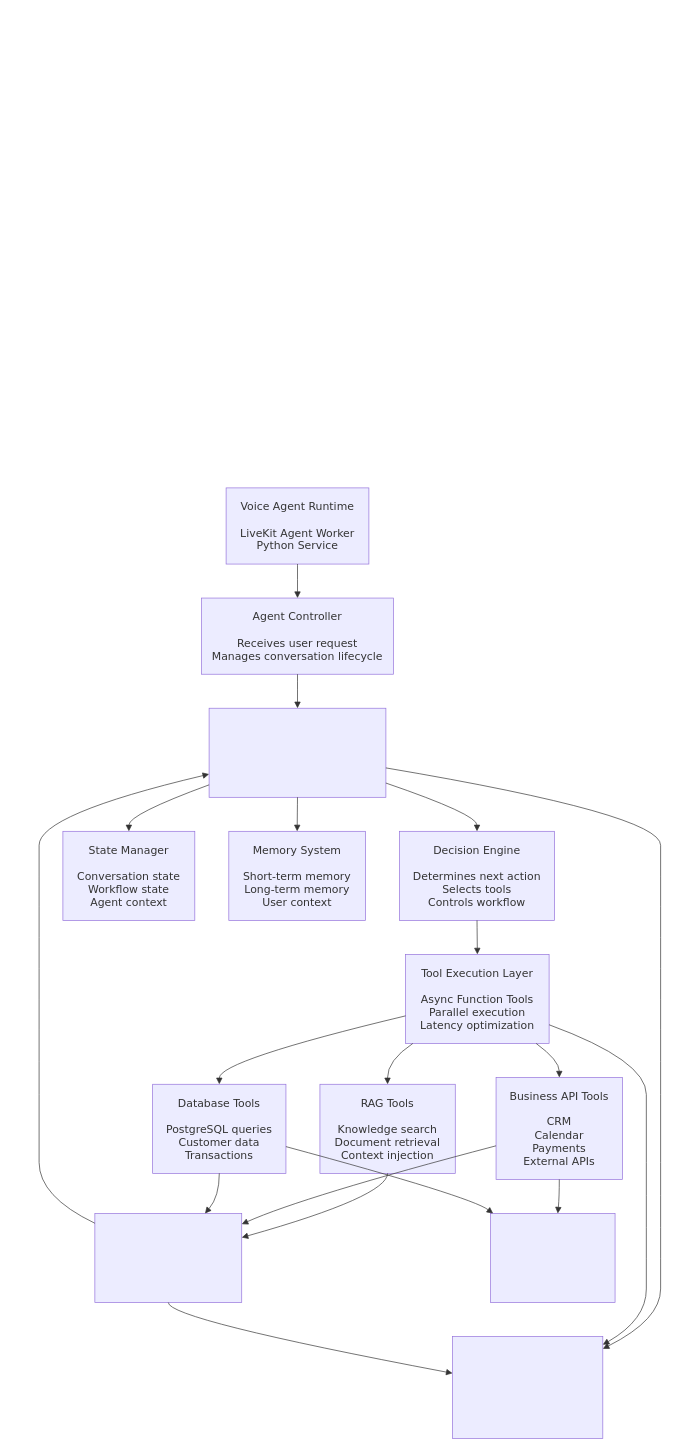
Some shapes in this 673 by 1450 pixel diagram are drawn without their labels. Here are the shapes that lost their labels. From the top down, the centre of each, then its label:
At (x=297, y=752): "LangGraph Workflow Engine State machine Agent reasoning flow Task orchestration".
At (x=168, y=1258): "LLM Reasoning Engine GPT Models Planning Response generation".
At (x=552, y=1258): "External Services CRM Calendar Business Systems".
At (x=527, y=1387): "Observability Layer Logs Tracing Latency monitoring Conversation analytics".
